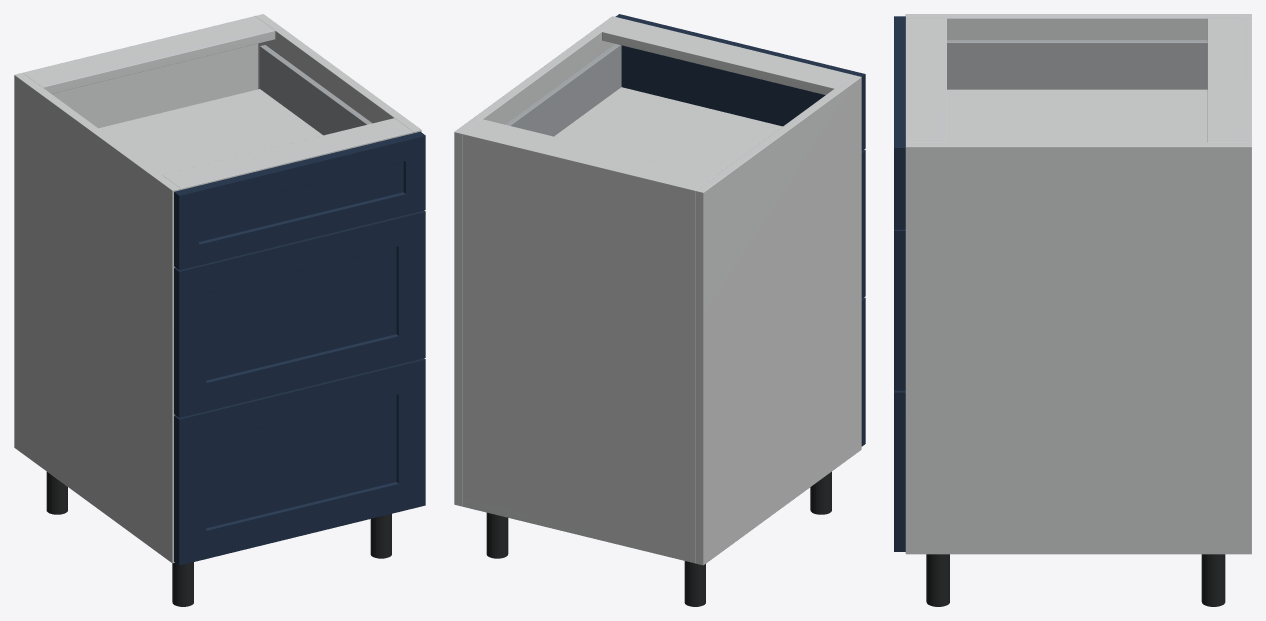
Rendered from oppein-pb-bss-3db21.glb.
The picture shows the model from 3 angles, left to right: view 1: azimuth 30°, elevation 25°; view 2: azimuth 150°, elevation 25°; view 3: azimuth 270°, elevation 25°; orthographic projection. The views are drawn at different scales.
Visible parts, largest first — view 1: Cabinet side, Drawer front.001, Drawer front, Drawer front.002, Drawer floor.002, Cabinet back, Top support rail, Top support rail.001, Drawer side.005, Cabinet side.001, Adjustable foot.001, Adjustable foot.003 (+1 smaller); view 2: Cabinet back, Cabinet side, Drawer floor.002, Drawer front.002, Cabinet side.001, Top support rail.001, Drawer side.005, Top support rail, Cabinet bottom, Adjustable foot.002, Adjustable foot, Adjustable foot.001 (+2 smaller); view 3: Cabinet side.001, Drawer floor.002, Drawer side.004, Cabinet side, Top support rail.001, Top support rail, Drawer front.002, Drawer front, Drawer front.001, Adjustable foot.002, Adjustable foot.003, Cabinet back.
Boxes of the visible parts, <box> form: Cabinet side: <box>14,73,180,563</box>; Drawer front.001: <box>174,210,425,417</box>; Drawer front: <box>174,358,425,565</box>; Drawer front.002: <box>174,131,425,269</box>; Drawer floor.002: <box>99,89,322,174</box>; Cabinet back: <box>23,16,258,128</box>; Top support rail: <box>24,18,275,93</box>; Top support rail.001: <box>162,118,413,189</box>; Drawer side.005: <box>260,45,372,135</box>; Cabinet side.001: <box>255,14,421,133</box>; Adjustable foot.001: <box>172,562,193,606</box>; Adjustable foot.003: <box>370,514,391,558</box>; Cabinet back: <box>462,132,697,562</box>; Cabinet side: <box>695,75,861,565</box>; Drawer floor.002: <box>554,87,782,175</box>; Drawer front.002: <box>615,14,865,150</box>; Cabinet side.001: <box>454,16,620,506</box>; Top support rail.001: <box>602,18,852,94</box>; Drawer side.005: <box>505,44,621,136</box>; Top support rail: <box>466,119,714,188</box>; Cabinet bottom: <box>462,498,694,563</box>; Adjustable foot.002: <box>486,512,508,558</box>; Adjustable foot: <box>684,561,705,606</box>; Adjustable foot.001: <box>810,471,831,514</box>; Cabinet side.001: <box>905,142,1251,554</box>; Drawer floor.002: <box>947,89,1207,142</box>; Drawer side.004: <box>947,40,1207,89</box>; Cabinet side: <box>905,14,1251,39</box>; Top support rail.001: <box>905,18,946,142</box>; Top support rail: <box>1207,18,1245,142</box>; Drawer front.002: <box>894,16,905,229</box>; Drawer front: <box>894,390,905,551</box>; Drawer front.001: <box>894,229,905,390</box>; Adjustable foot.002: <box>1201,554,1225,606</box>; Adjustable foot.003: <box>926,554,949,606</box>; Cabinet back: <box>1245,18,1251,142</box>.
Bounding box in the file's own units: 0.5334 × 0.8763 × 0.6064.
